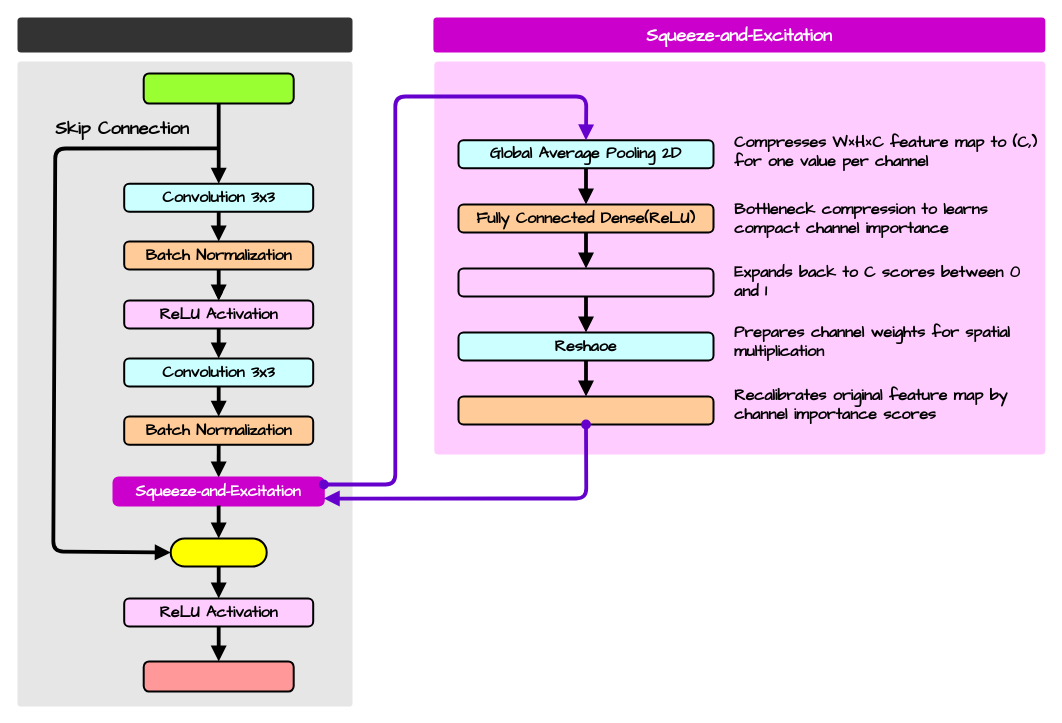
This 1062x723 diagram has some shape labels left out. The shapes that lost their labels are listed below. From the top down, each one's centre as x and y in pixels, then its label:
At [184,34]: "Residual Block".
At [218,88]: "Input(x)".
At [585,282]: "Fully Connected Dense(Sigmoid)".
At [585,410]: "Scale".
At [218,552]: "Add".
At [218,676]: "Output".
